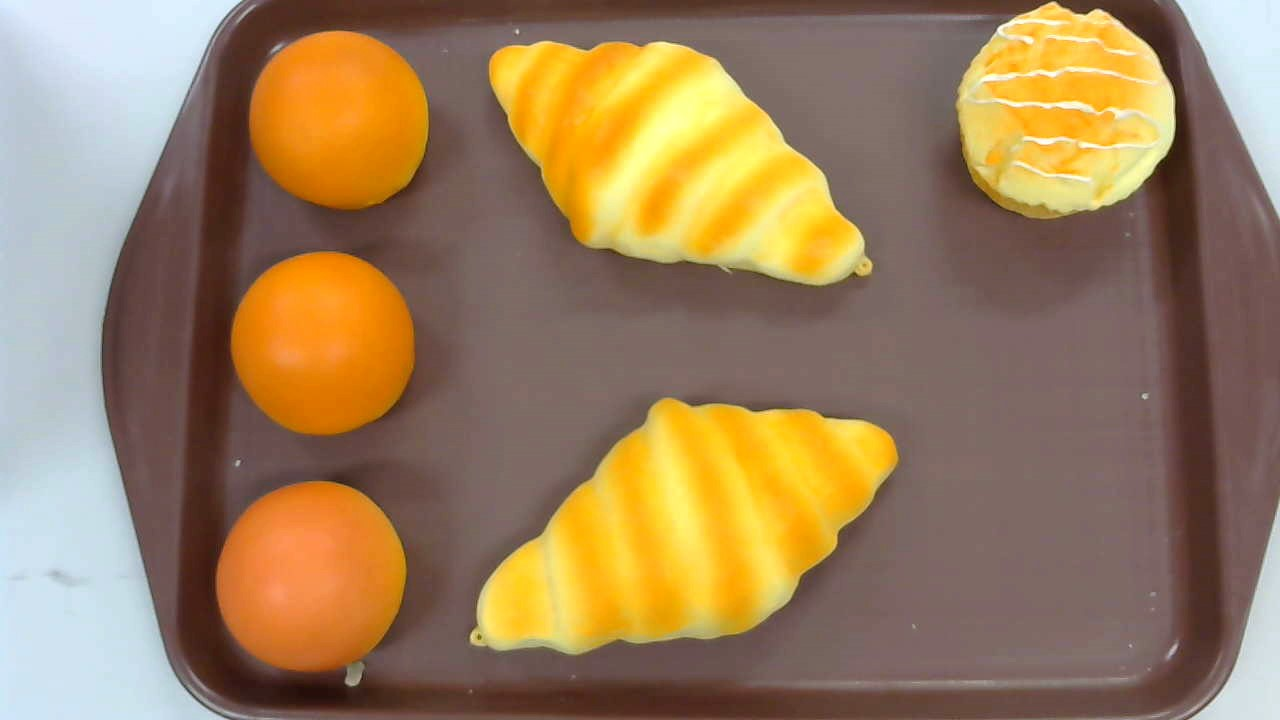bun: (216, 480, 407, 672), (231, 250, 416, 436), (248, 30, 427, 211)
croissant: (468, 397, 900, 656), (488, 39, 874, 288)
cupcake: (955, 1, 1176, 222)
